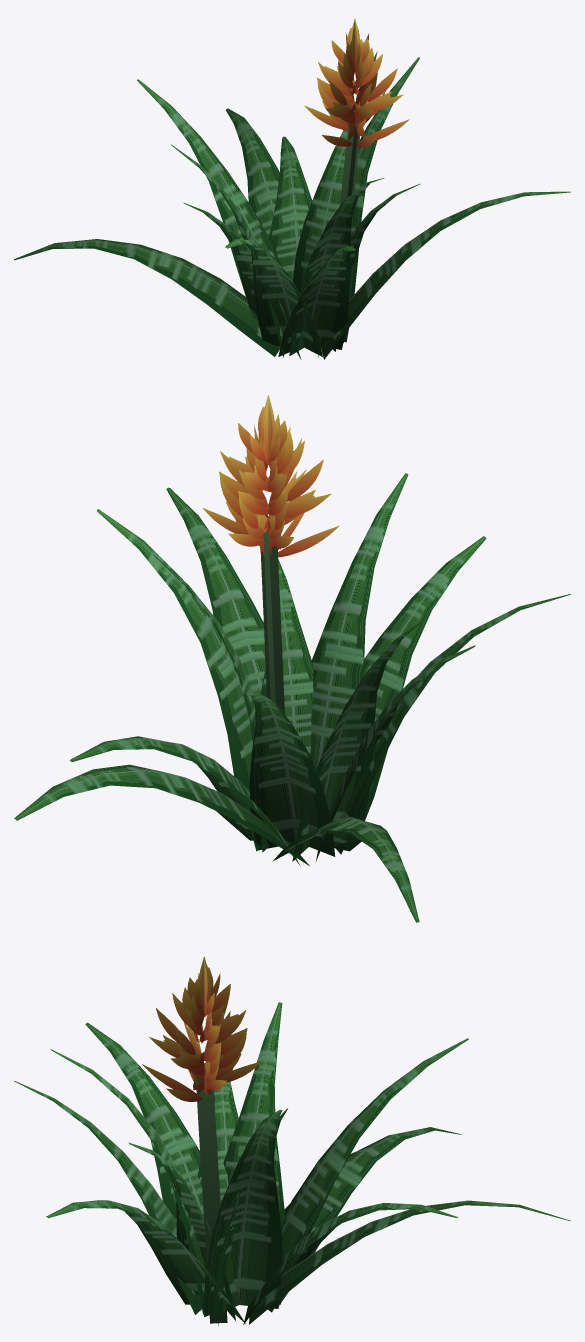
File: mm6_deco_flower01.glb
The picture shows the model from 3 angles, top to bottom: view 1: azimuth 30°, elevation 25°; view 2: azimuth 150°, elevation 25°; view 3: azimuth 270°, elevation 25°; orthographic projection. The views are drawn at different scales.
Parts seen in each view (by area): view 1: Plant; view 2: Plant; view 3: Plant.
Part boxes in pixels (left/top/right/bottom): Plant: left=14, top=19, right=570, bottom=359; Plant: left=14, top=395, right=570, bottom=922; Plant: left=14, top=956, right=570, bottom=1326.
Size of the model in its own units: 0.3388 by 0.2894 by 0.3829.
Materials: 1 (1 with a texture image).
